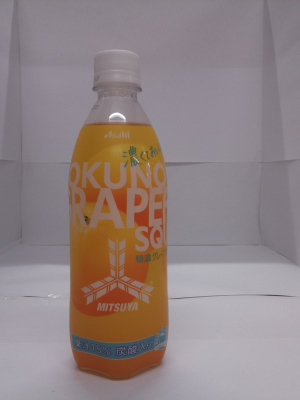grapefruits: (49, 37, 183, 387)
